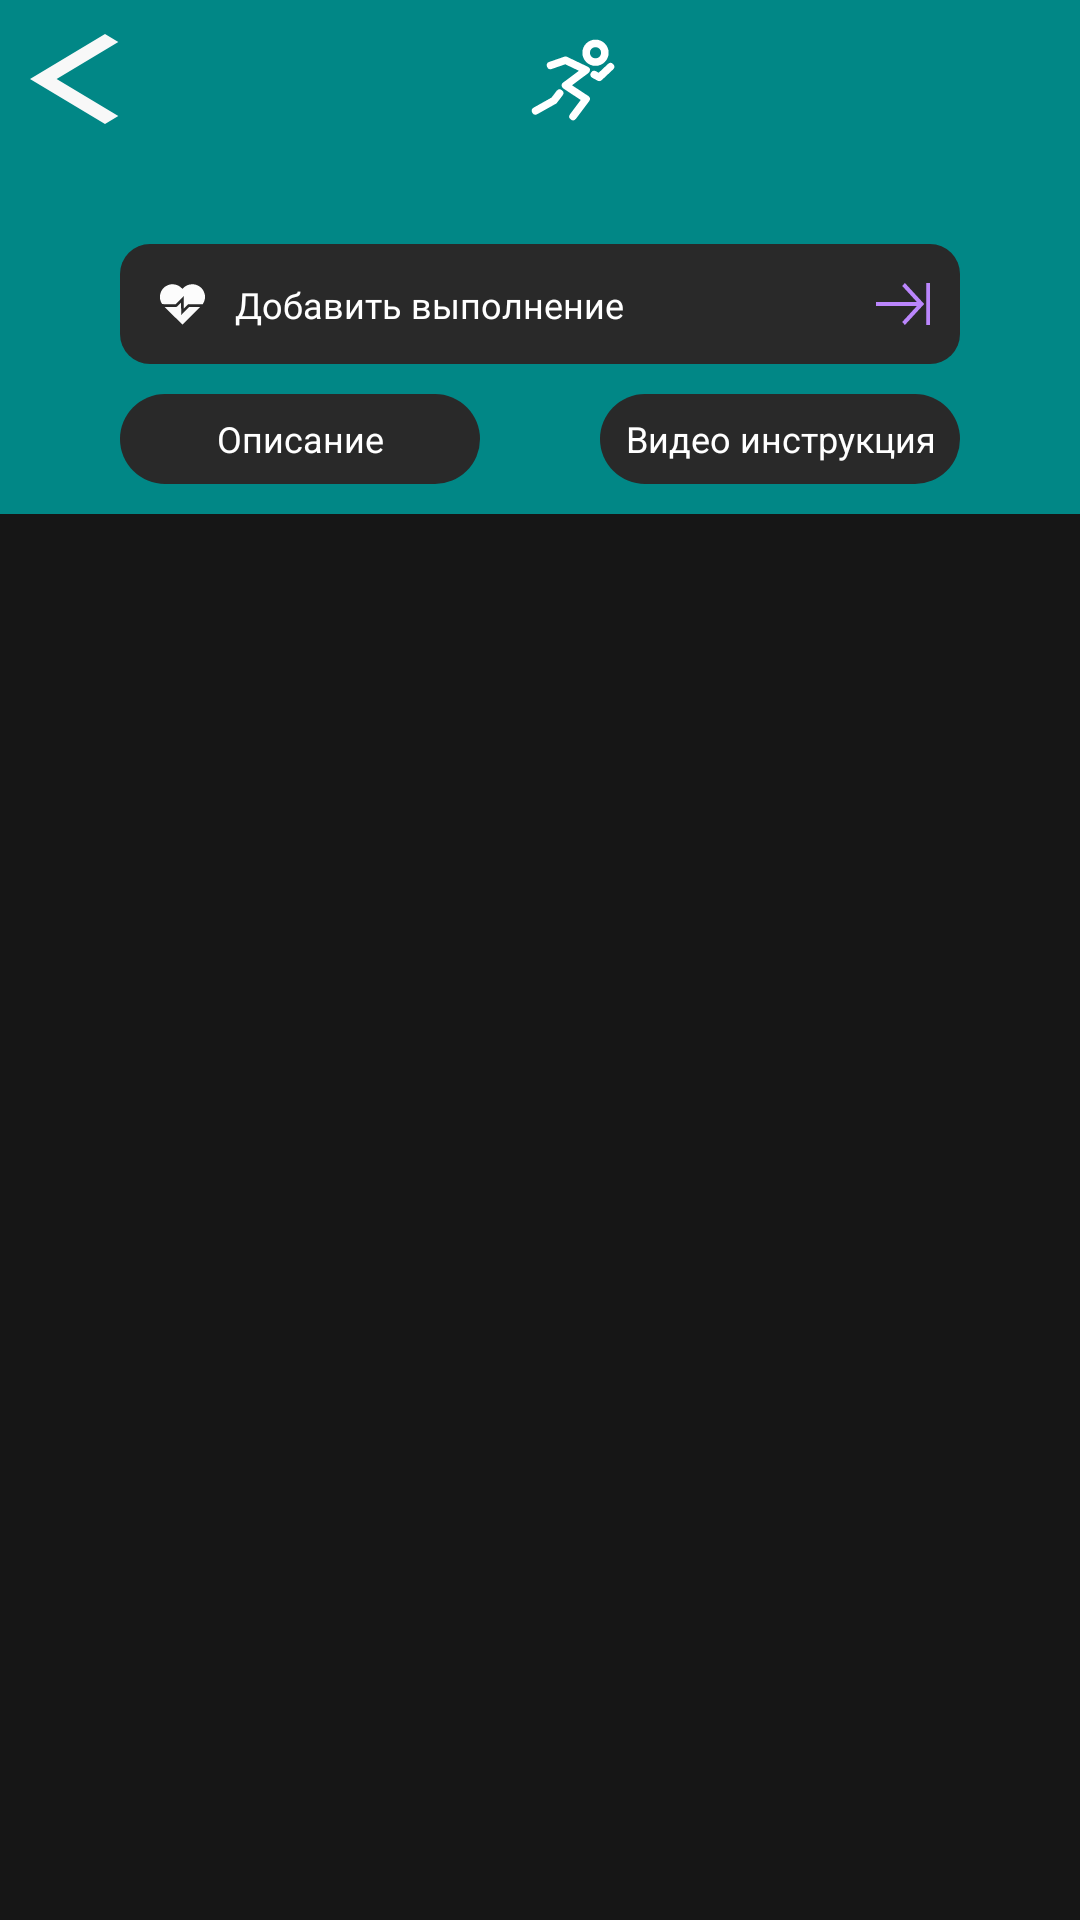

Icon bounding boxes for this 1080*1920 phone screenshot, format [x1,y1,x2,y2]:
back: [30,34,118,124]
cardio: [160,284,205,325]
training: [531,39,615,121]
